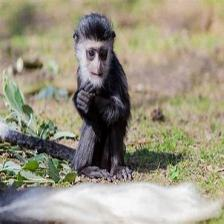monkey: (67, 15, 136, 184)
